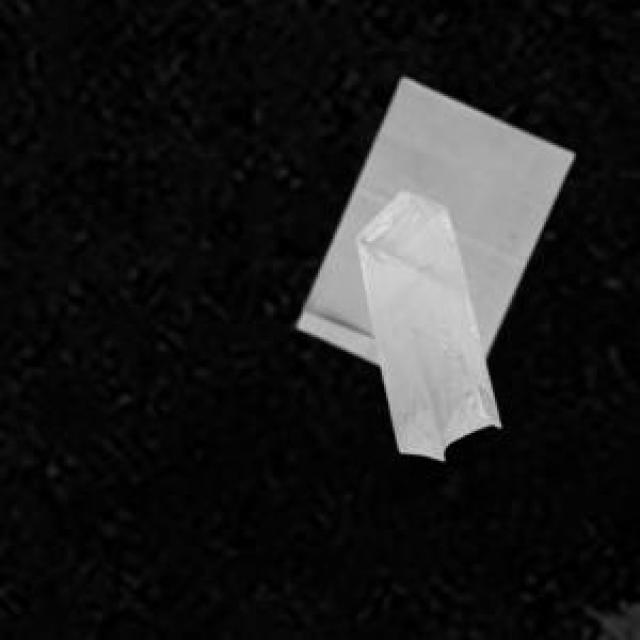paper: (294, 75, 570, 361)
